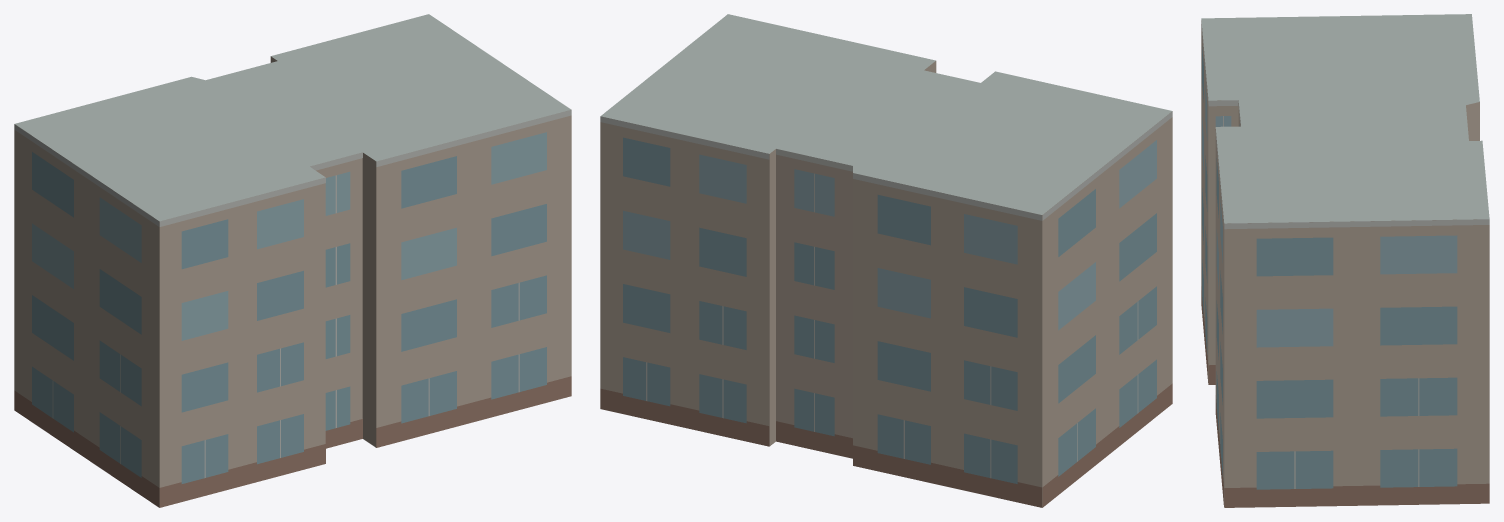
The model's file is residential-f3f1341b-1668-4bef-b16d-4fc99d007e10.glb.
3 renders of one model, left to right at view 1: azimuth 30°, elevation 25°; view 2: azimuth 150°, elevation 25°; view 3: azimuth 270°, elevation 25°, orthographic. The views are drawn at different scales.
Parts seen in each view (by area): view 1: residential-f3f1341b-1668-4bef-b16d-4fc99d007e10.tmp; view 2: residential-f3f1341b-1668-4bef-b16d-4fc99d007e10.tmp; view 3: residential-f3f1341b-1668-4bef-b16d-4fc99d007e10.tmp.
Part boxes in pixels (x1,y1,x2,y2): residential-f3f1341b-1668-4bef-b16d-4fc99d007e10.tmp: (14,14,571,507); residential-f3f1341b-1668-4bef-b16d-4fc99d007e10.tmp: (600,14,1172,507); residential-f3f1341b-1668-4bef-b16d-4fc99d007e10.tmp: (1201,14,1489,507).
Bounding box in the file's own units: 19.28 × 12.2 × 11.22.
